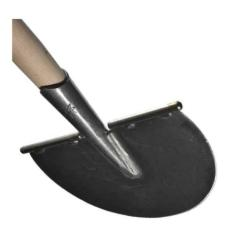PELLE: (9, 14, 216, 224)
